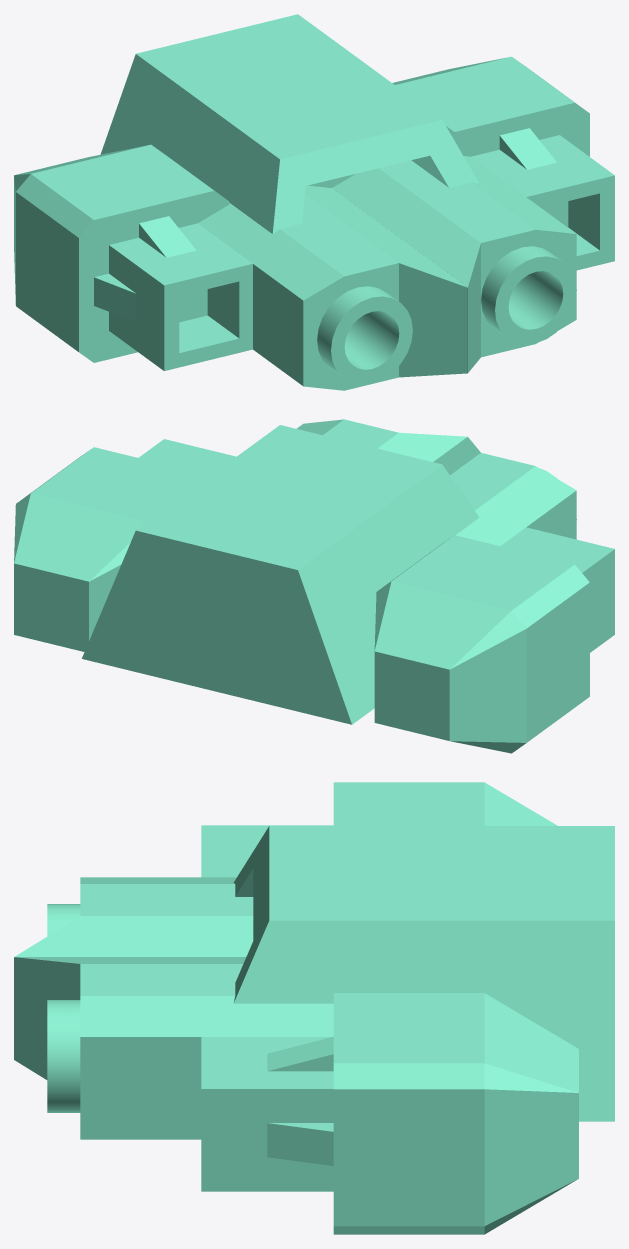
File: flying_special_diamond.obj
The picture shows the model from 3 angles, top to bottom: view 1: azimuth 30°, elevation 25°; view 2: azimuth 150°, elevation 25°; view 3: azimuth 270°, elevation 25°; orthographic projection. The views are drawn at different scales.
Visible parts, largest first — view 1: mergedBlocks; view 2: mergedBlocks; view 3: mergedBlocks.
Boxes of the visible parts, box(x1,y1,x2,y2) form: mergedBlocks: box(14, 14, 614, 390); mergedBlocks: box(14, 419, 614, 753); mergedBlocks: box(14, 782, 614, 1234).
Bounding box in the file's own units: 1.87 × 0.645 × 1.59.
